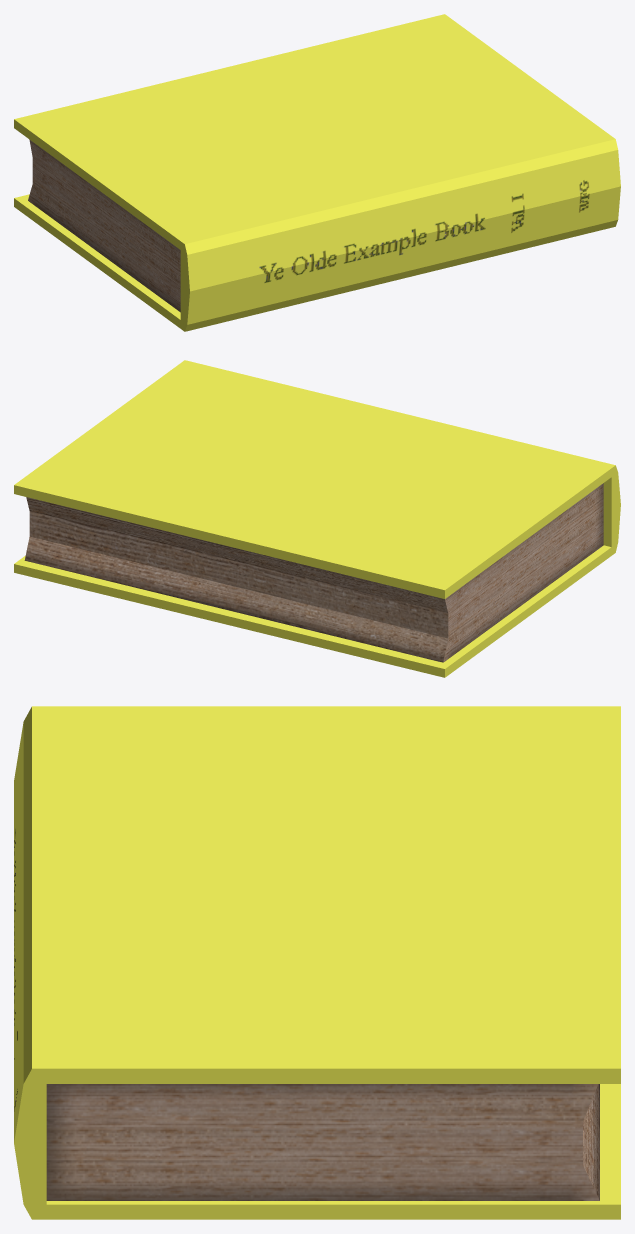
File: yellow_book.obj
The picture shows the model from 3 angles, top to bottom: view 1: azimuth 30°, elevation 25°; view 2: azimuth 150°, elevation 25°; view 3: azimuth 270°, elevation 25°; orthographic projection. The views are drawn at different scales.
Visible parts, largest first — view 1: Book_Cube.001; view 2: Book_Cube.001; view 3: Book_Cube.001.
Part boxes in pixels (box(x1,y1,x2,y2)): Book_Cube.001: box(14, 14, 620, 331); Book_Cube.001: box(14, 360, 620, 677); Book_Cube.001: box(14, 706, 620, 1219).
Bounding box in the file's own units: 5.15 × 1 × 3.64.
